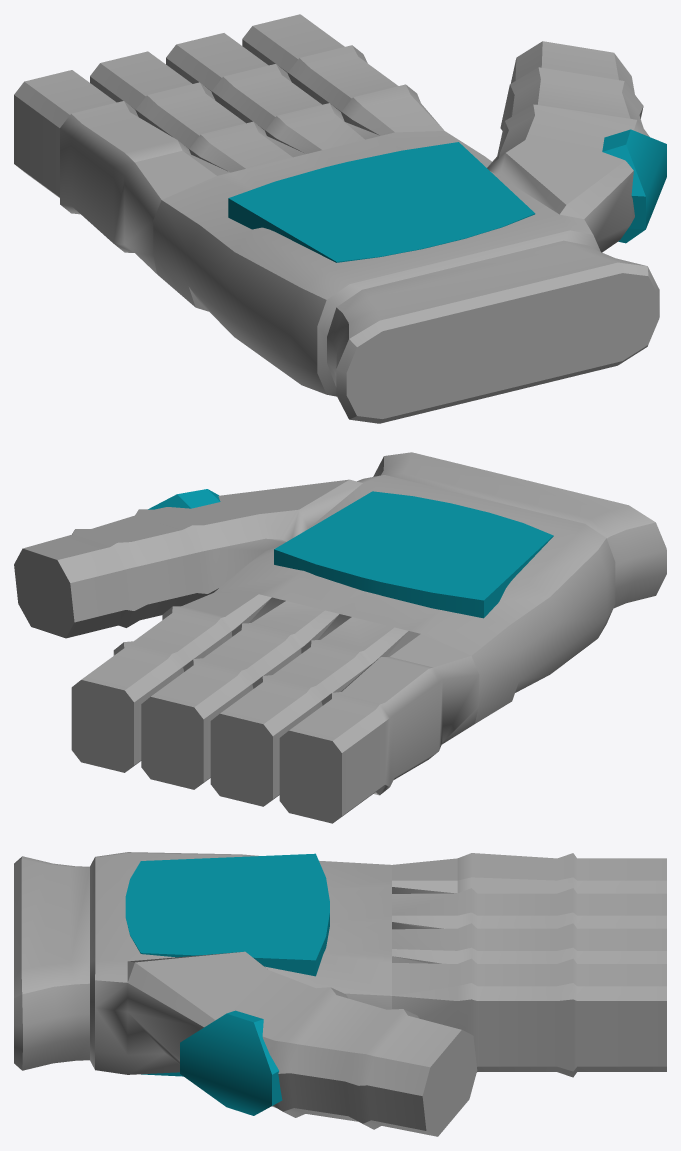
The model's file is left hand.fbx.
3 views of the same model, one above another, from view 1: azimuth 30°, elevation 25°; view 2: azimuth 150°, elevation 25°; view 3: azimuth 270°, elevation 25° (orthographic). The views are drawn at different scales.
Visible parts, largest first — view 1: left_hand, hand_gem, thumb_gem; view 2: left_hand, hand_gem, thumb_gem; view 3: left_hand, hand_gem, thumb_gem.
Boxes of the visible parts, bbox=[...] form: left_hand: bbox=[14, 14, 659, 423]; hand_gem: bbox=[228, 142, 535, 262]; thumb_gem: bbox=[602, 129, 666, 243]; left_hand: bbox=[14, 452, 666, 823]; hand_gem: bbox=[274, 491, 553, 618]; thumb_gem: bbox=[148, 489, 220, 509]; left_hand: bbox=[14, 852, 666, 1136]; hand_gem: bbox=[125, 853, 329, 976]; thumb_gem: bbox=[180, 1010, 282, 1115].
Bounding box in the file's own units: 6.51 × 1.74 × 7.67.
